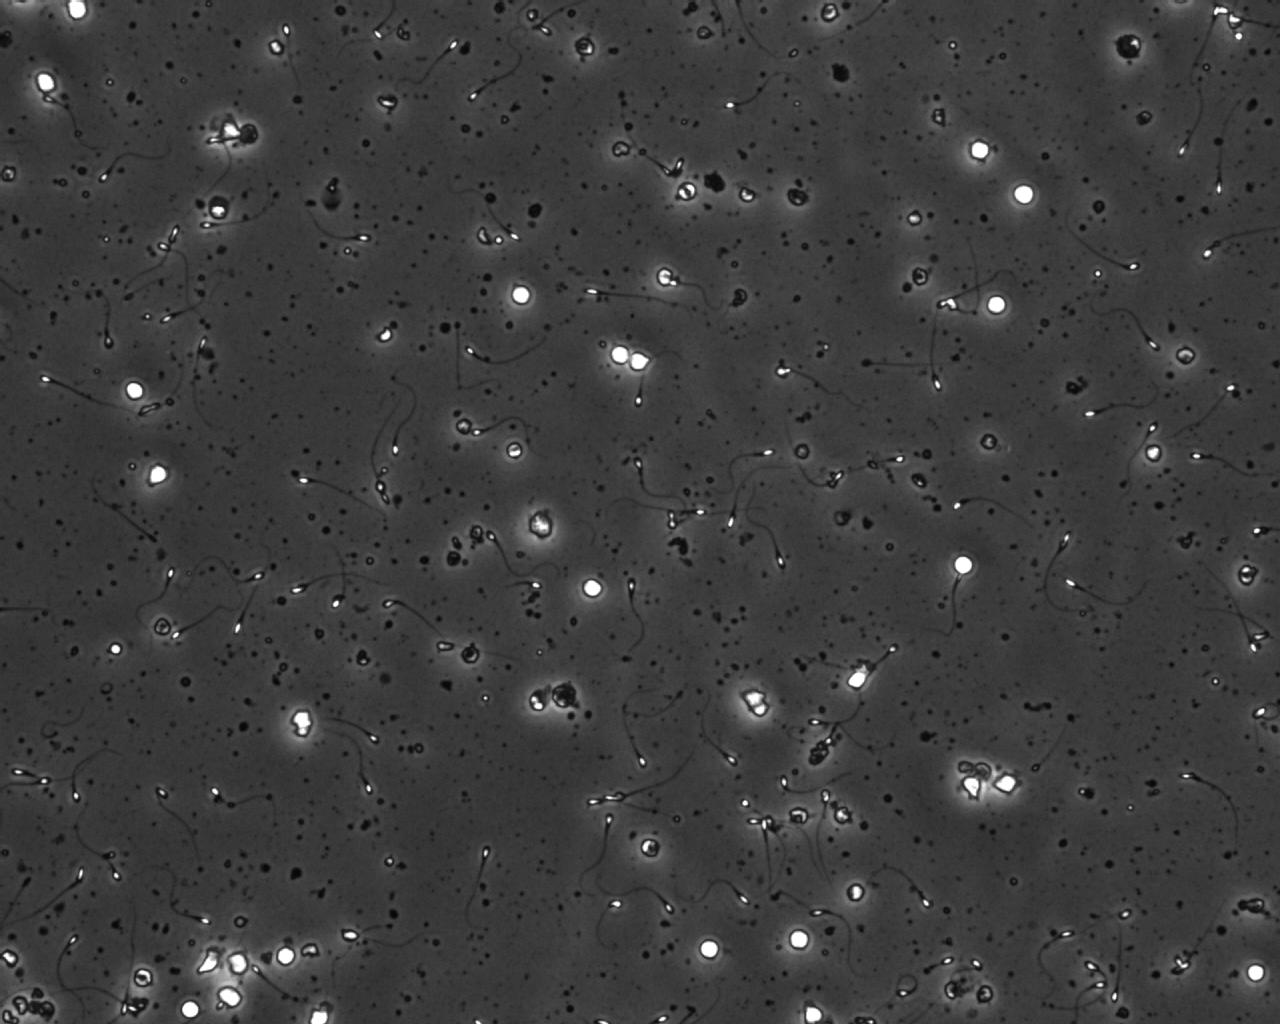cell: (523, 508, 557, 542), (740, 685, 772, 721), (1112, 30, 1145, 63), (287, 706, 317, 741), (694, 934, 724, 964), (551, 679, 581, 708), (214, 982, 245, 1011), (224, 948, 252, 979), (1009, 180, 1039, 209), (785, 925, 814, 954), (31, 68, 60, 98), (234, 119, 262, 149), (204, 192, 232, 223), (990, 769, 1020, 797), (673, 179, 702, 207), (625, 347, 653, 376), (144, 460, 172, 489), (949, 551, 978, 579), (958, 772, 985, 802), (965, 136, 994, 164), (1233, 561, 1261, 589), (606, 341, 635, 368), (578, 575, 607, 602), (827, 59, 854, 87), (783, 183, 811, 210), (507, 282, 535, 309), (982, 290, 1010, 318), (176, 996, 204, 1023), (523, 686, 550, 716), (272, 942, 301, 969), (121, 377, 148, 404), (457, 641, 484, 668), (842, 879, 869, 906), (637, 834, 664, 862), (1171, 343, 1198, 369), (1242, 959, 1269, 986), (129, 965, 156, 992), (62, 0, 91, 24), (817, 0, 843, 26), (1140, 440, 1166, 466), (571, 34, 598, 60), (607, 137, 635, 161), (734, 182, 760, 207), (149, 614, 176, 639), (502, 438, 527, 463), (789, 439, 814, 464), (800, 1001, 827, 1024), (452, 414, 476, 438), (976, 430, 1001, 453), (306, 1005, 334, 1024)
